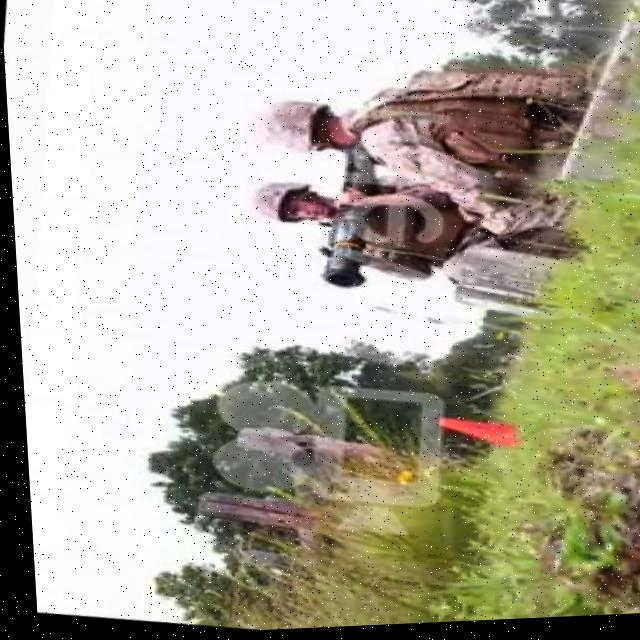rocket: (311, 157, 377, 295)
